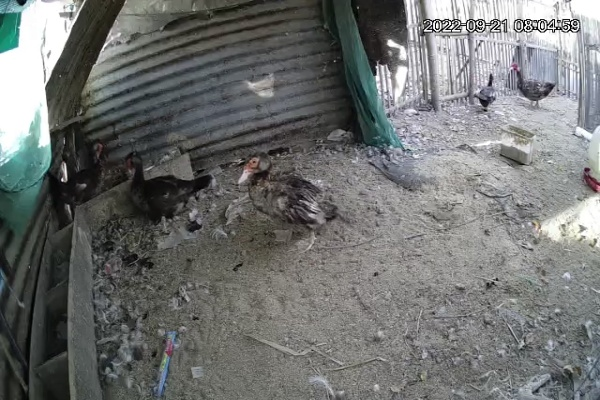Entog: (232, 150, 341, 249), (509, 58, 558, 109), (475, 71, 500, 113)
